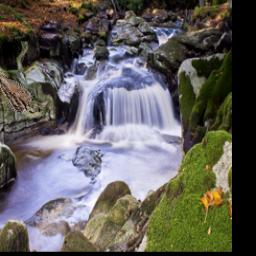Sparrow: (0, 42, 50, 120)
